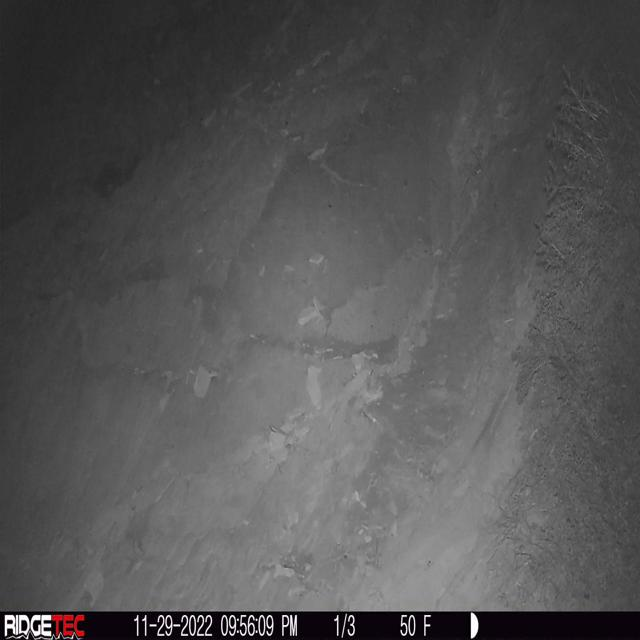rodent: (470, 383, 516, 453)
